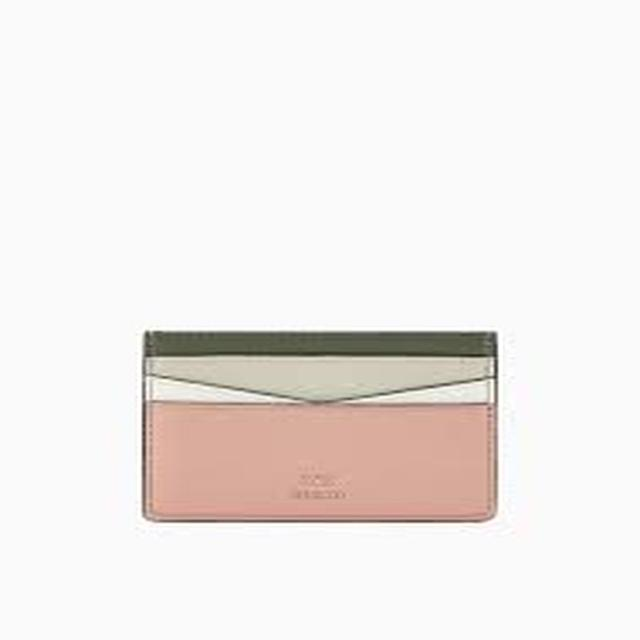wallet: (117, 313, 514, 540)
